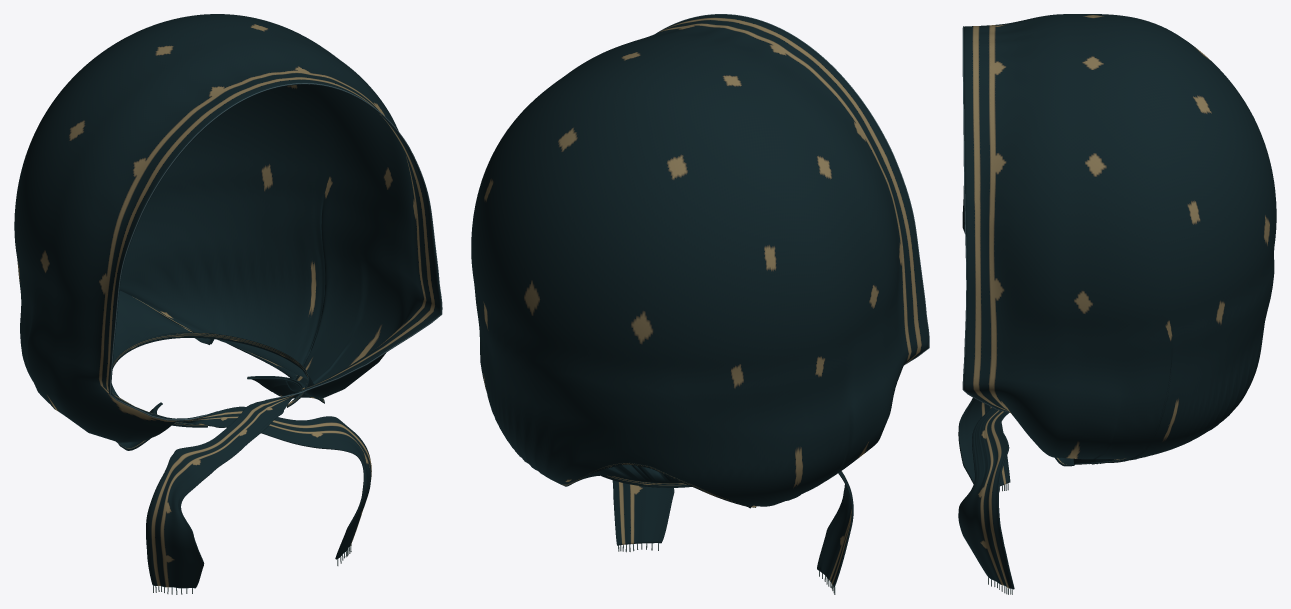
The model's file is Feminine-Feminine-ponytail-open-pashmina251-headgear-45db9f31.glb.
3 views of the same model, side by side, from view 1: azimuth 30°, elevation 25°; view 2: azimuth 150°, elevation 25°; view 3: azimuth 270°, elevation 25° (orthographic). The views are drawn at different scales.
Parts seen in each view (by area): view 1: 226 headgear / Headwear / continuous woven pashmina239, 226 headgear / Headwear / face edge239; view 2: 226 headgear / Headwear / continuous woven pashmina239, 226 headgear / Headwear / face edge239; view 3: 226 headgear / Headwear / continuous woven pashmina239, 226 headgear / Headwear / face edge239.
Boxes of the visible parts, x1,y1,x2,y2 form: 226 headgear / Headwear / continuous woven pashmina239: [14, 14, 441, 588]; 226 headgear / Headwear / face edge239: [110, 83, 442, 420]; 226 headgear / Headwear / continuous woven pashmina239: [471, 14, 928, 587]; 226 headgear / Headwear / face edge239: [655, 14, 929, 365]; 226 headgear / Headwear / continuous woven pashmina239: [958, 14, 1276, 589]; 226 headgear / Headwear / face edge239: [962, 26, 1009, 412].
Bounding box in the file's own units: 0.8667 × 1.22 × 0.6804.
Materials: 3 (1 with a texture image).
